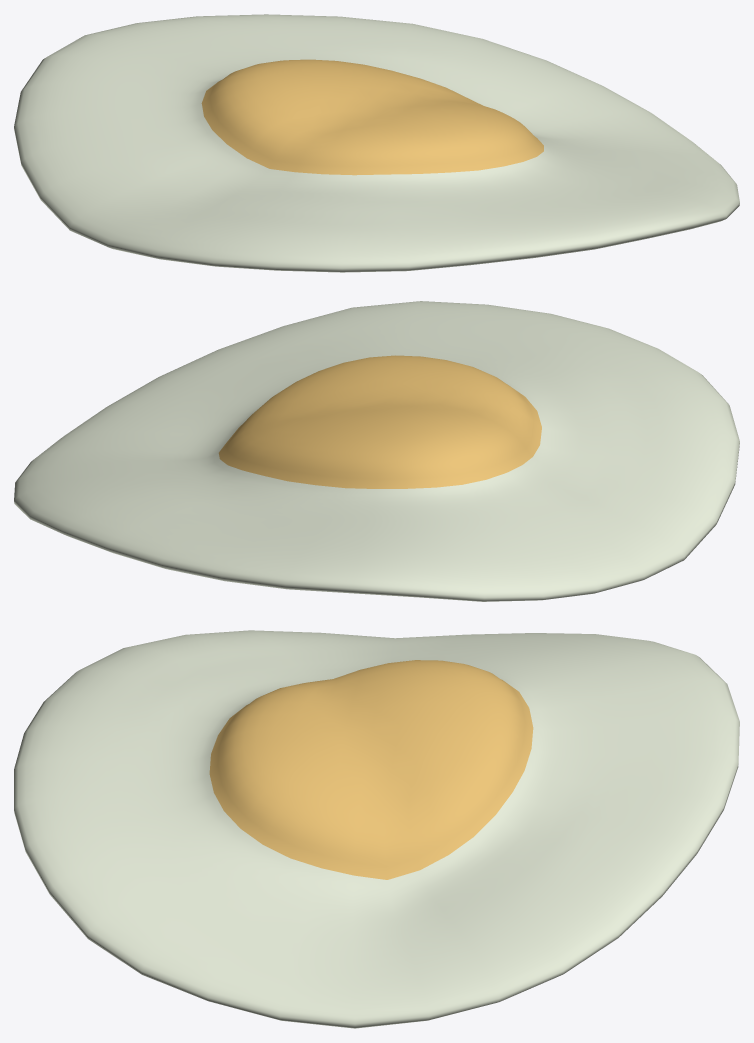
File: Fried eggV2.fbx
3 views of the same model, one above another, from view 1: azimuth 30°, elevation 25°; view 2: azimuth 150°, elevation 25°; view 3: azimuth 270°, elevation 25° (orthographic). The views are drawn at different scales.
Parts seen in each view (by area): view 1: EGG, yolk; view 2: EGG, yolk; view 3: EGG, yolk.
Part boxes in pixels (box(x1,y1,x2,y2)): EGG: box(14, 14, 739, 272); yolk: box(201, 59, 543, 175); EGG: box(14, 301, 739, 601); yolk: box(218, 355, 541, 488); EGG: box(14, 630, 739, 1028); yolk: box(209, 660, 533, 879).
Bounding box in the file's own units: 187 × 41.15 × 176.
